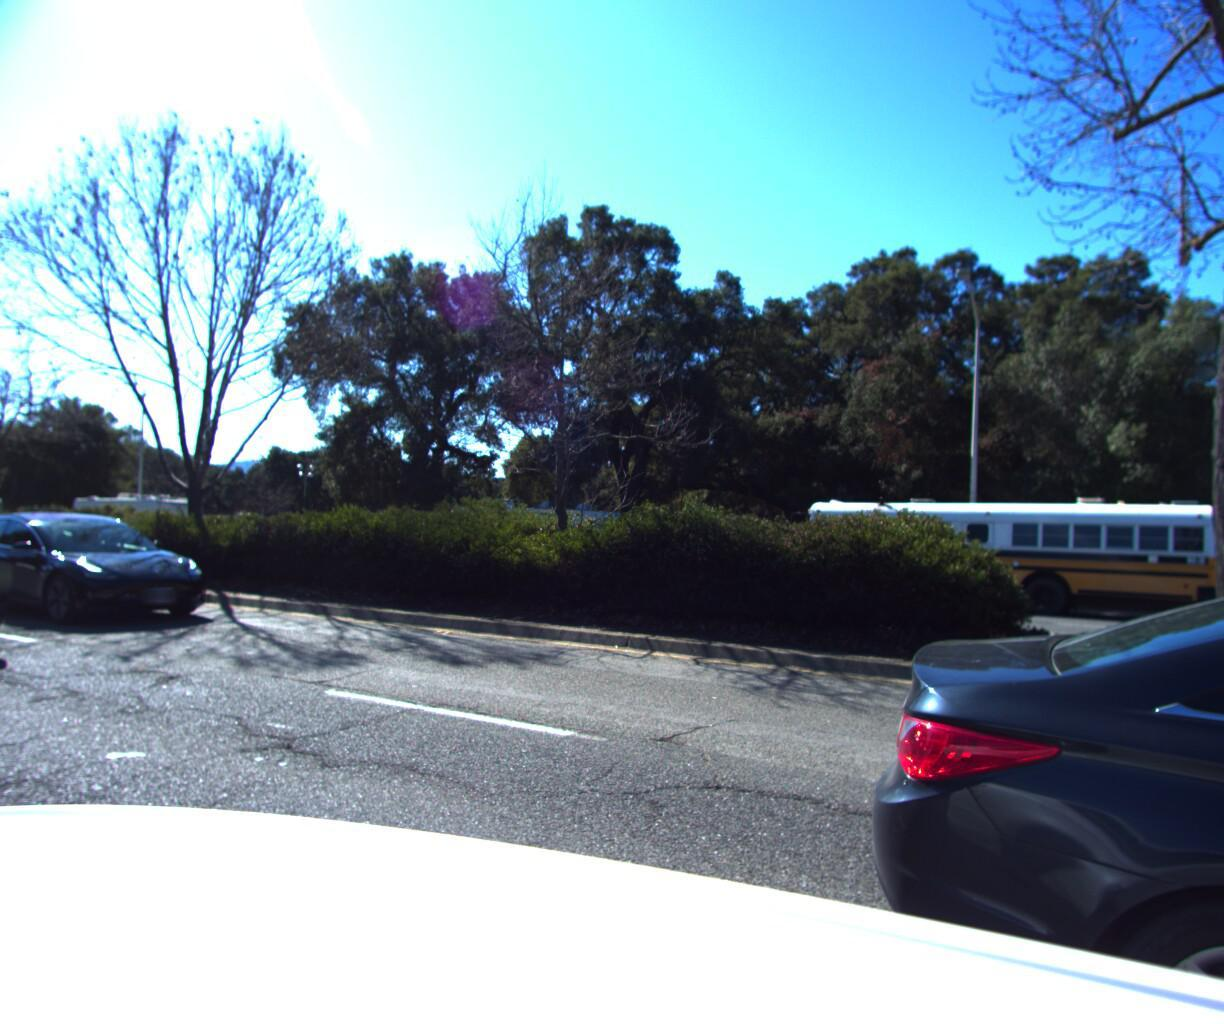bus: (757, 473, 1219, 630)
car: (802, 537, 1224, 1024), (0, 522, 204, 635), (0, 477, 40, 687)
other_vehicle: (438, 497, 632, 592), (63, 493, 210, 564), (0, 493, 1, 549)
